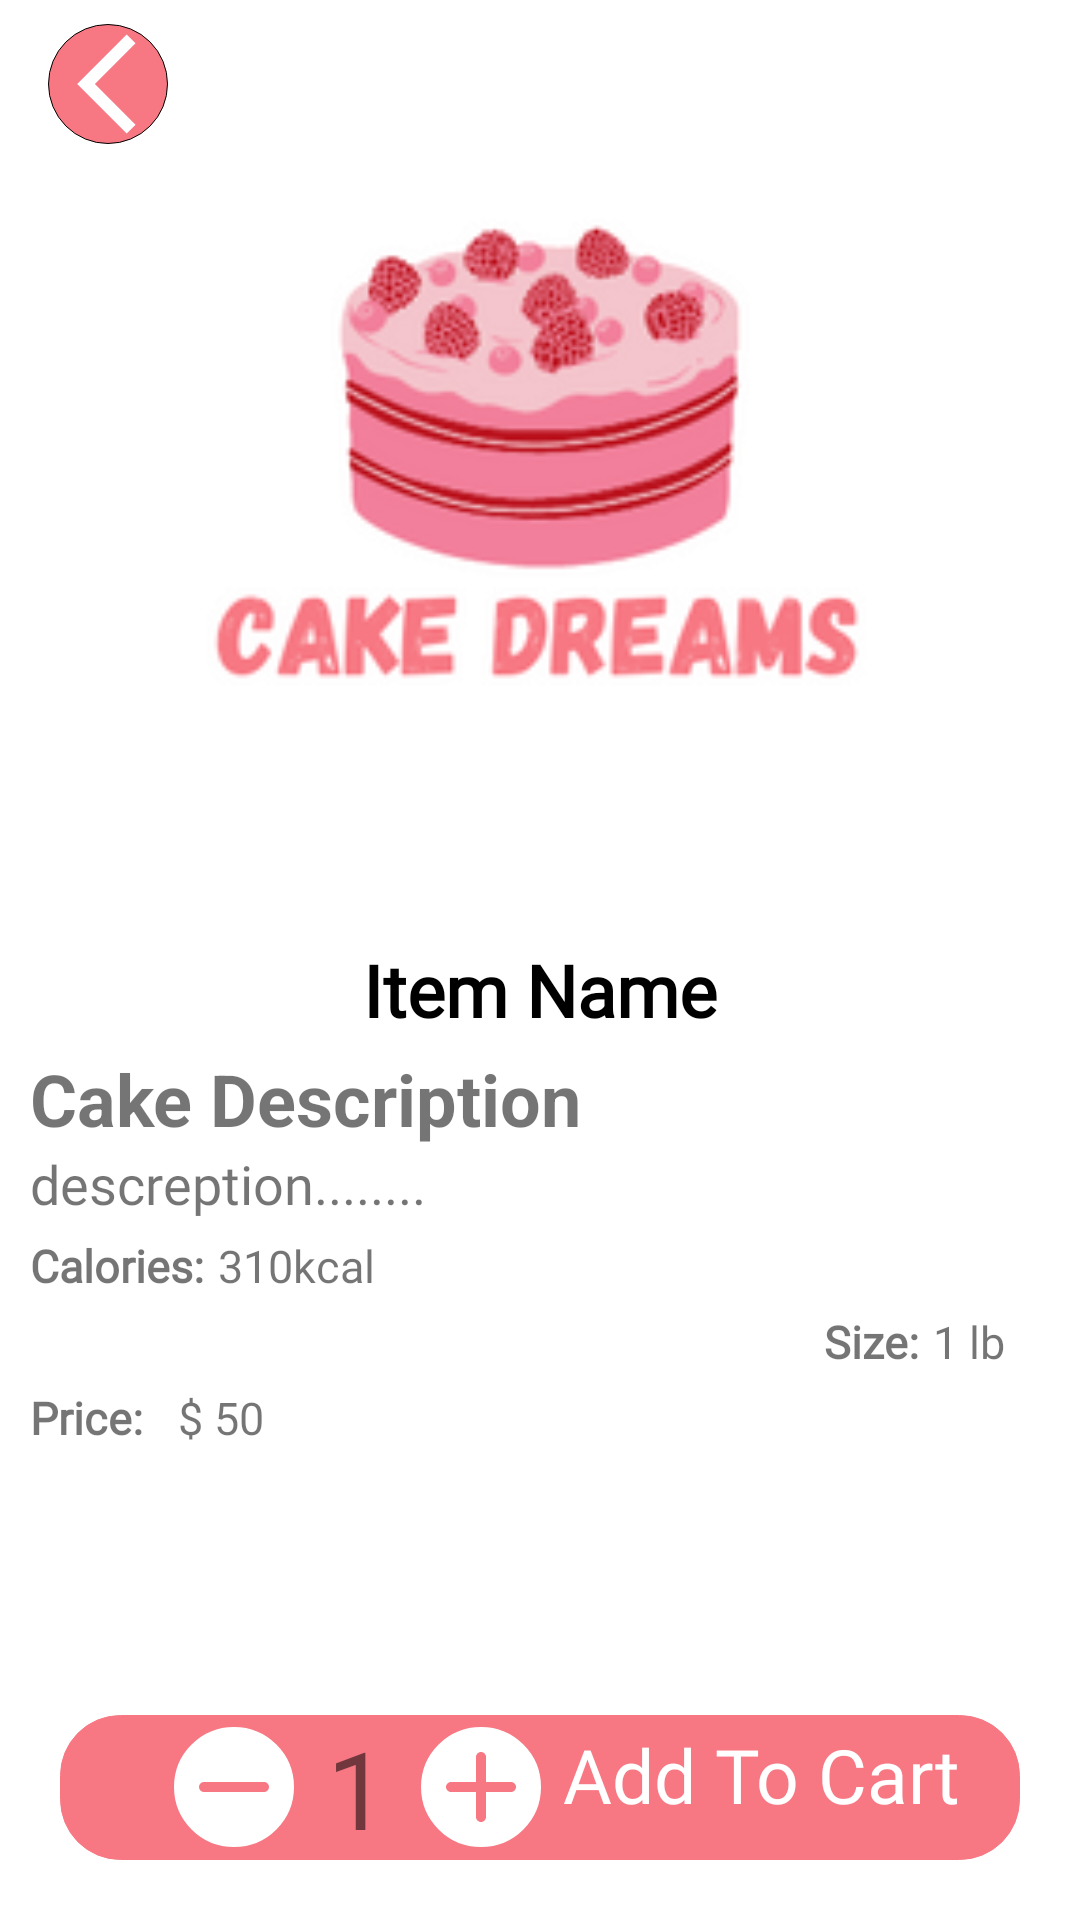

Icons on this 1080x1920 Android screen, each with the point to tap as [x,y]:
back: [108,84]
remove: [234,1787]
